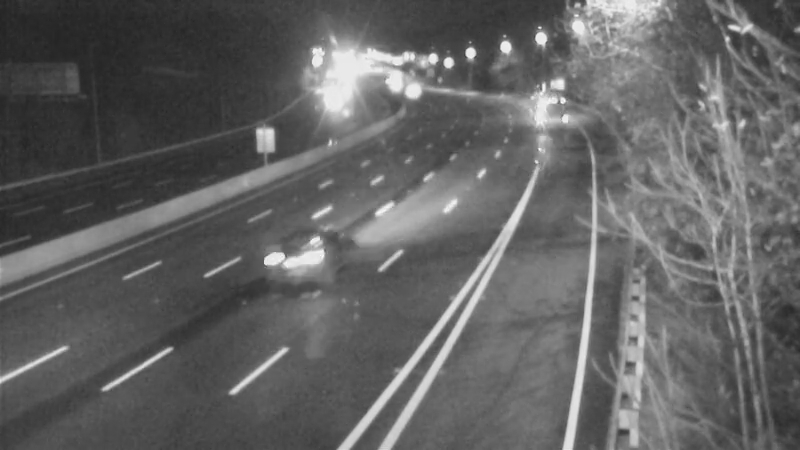vehicle: (251, 217, 331, 297), (392, 62, 442, 112), (533, 85, 583, 135), (306, 71, 356, 121)
